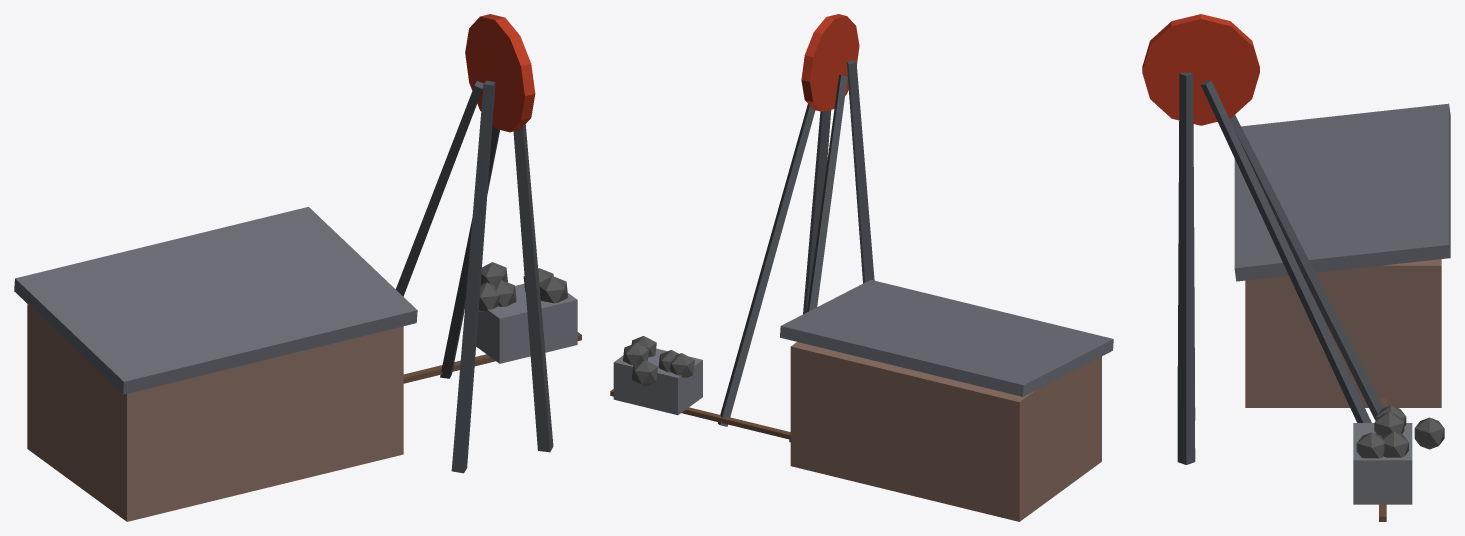
Rendered from mine-head.glb.
3 renders of one model, left to right at view 1: azimuth 30°, elevation 25°; view 2: azimuth 150°, elevation 25°; view 3: azimuth 270°, elevation 25°, orthographic. The views are drawn at different scales.
Visible parts, largest first — view 1: mine-head; view 2: mine-head; view 3: mine-head.
Boxes of the visible parts, x1,y1,x2,y2 form: mine-head: (14, 14, 581, 521); mine-head: (610, 14, 1113, 521); mine-head: (1142, 14, 1450, 521).
Size of the model in its own units: 6.15 by 4.8 by 3.14.
